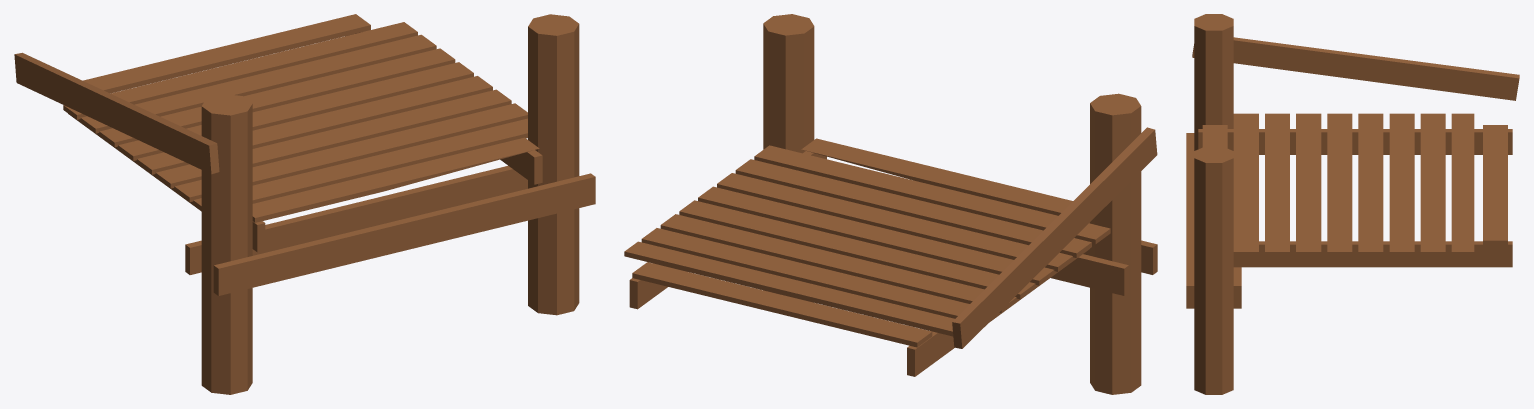
Rendered from Barrier Dock Attach 4.fbx.
The picture shows the model from 3 angles, left to right: view 1: azimuth 30°, elevation 25°; view 2: azimuth 150°, elevation 25°; view 3: azimuth 270°, elevation 25°; orthographic projection. The views are drawn at different scales.
Visible parts, largest first — view 1: Dock Part 1.006; view 2: Dock Part 1.006; view 3: Dock Part 1.006.
Part boxes in pixels (left/top/right/bottom): Dock Part 1.006: left=14, top=14, right=595, bottom=394; Dock Part 1.006: left=624, top=14, right=1157, bottom=394; Dock Part 1.006: left=1186, top=14, right=1519, bottom=394.
Size of the model in its own units: 410 by 288 by 374.
